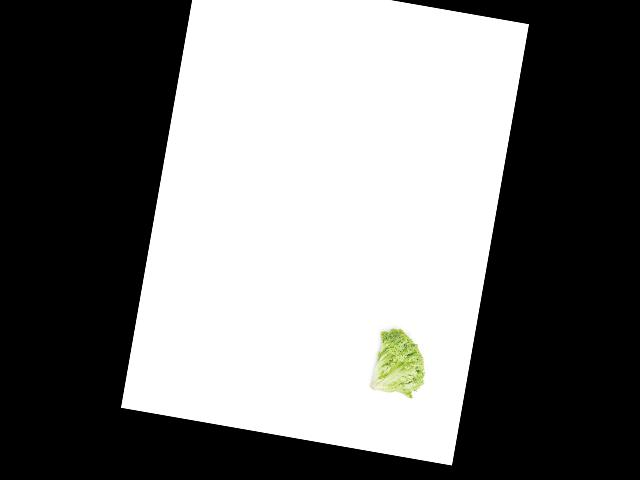lettuce: (363, 321, 436, 403)
